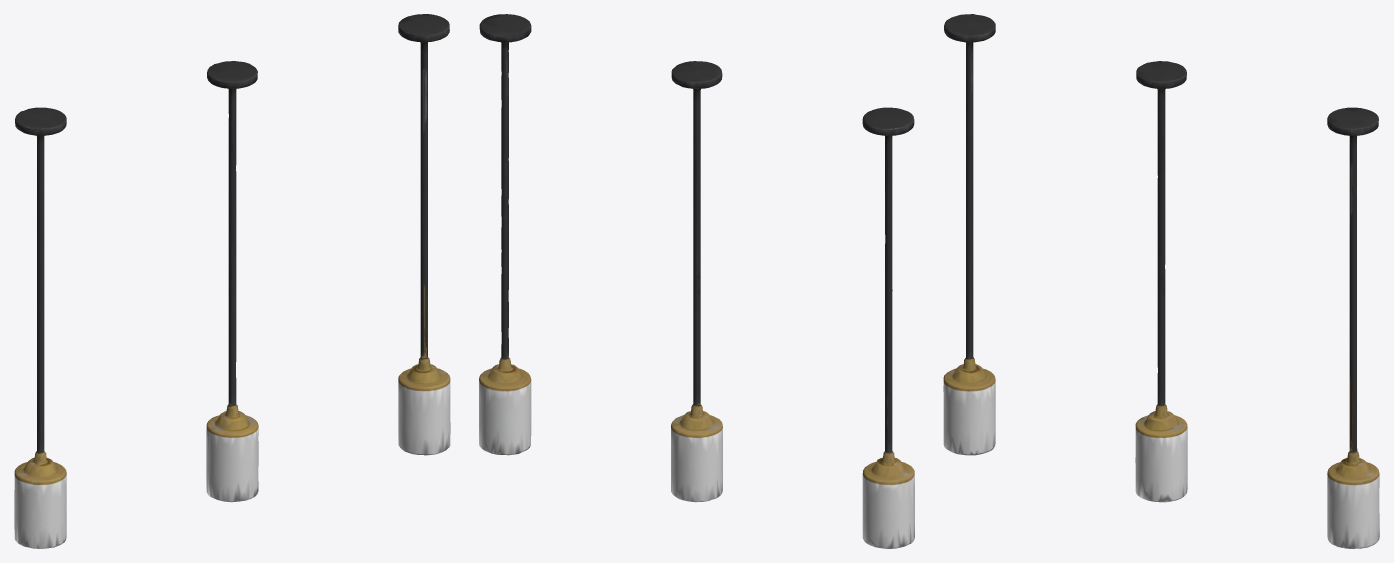
The model's file is mutfakavizesi.fbx.
3 renders of one model, left to right at view 1: azimuth 30°, elevation 25°; view 2: azimuth 150°, elevation 25°; view 3: azimuth 330°, elevation 25°, orthographic.
Parts seen in each view (by area): view 1: Mesh_0; view 2: Mesh_0; view 3: Mesh_0.
Boxes of the visible parts, left/top/right/bottom form: Mesh_0: left=14, top=14, right=450, bottom=548; Mesh_0: left=479, top=14, right=914, bottom=548; Mesh_0: left=943, top=14, right=1379, bottom=548.
Bounding box in the file's own units: 191 × 179 × 20.07.
1 material, 1 textured.
